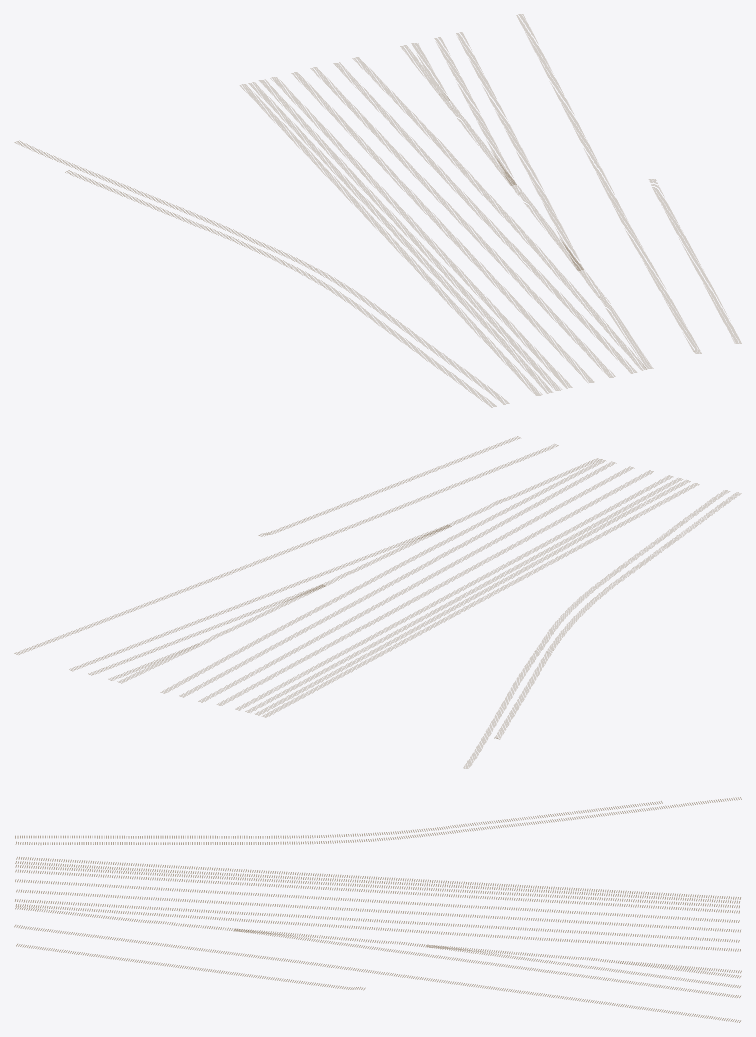
Rendered from c_1630_17829_rail_sleeper.glb.
3 views of the same model, one above another, from view 1: azimuth 30°, elevation 25°; view 2: azimuth 150°, elevation 25°; view 3: azimuth 270°, elevation 25° (orthographic). The views are drawn at different scales.
Visible parts, largest first — view 1: geometry_0; view 2: geometry_0; view 3: geometry_0.
Boxes of the visible parts, x1,y1,x2,y2 form: geometry_0: (14, 14, 741, 407); geometry_0: (14, 436, 741, 768); geometry_0: (14, 797, 741, 1022).
Size of the model in its own units: 192 by 2.22 by 257.
